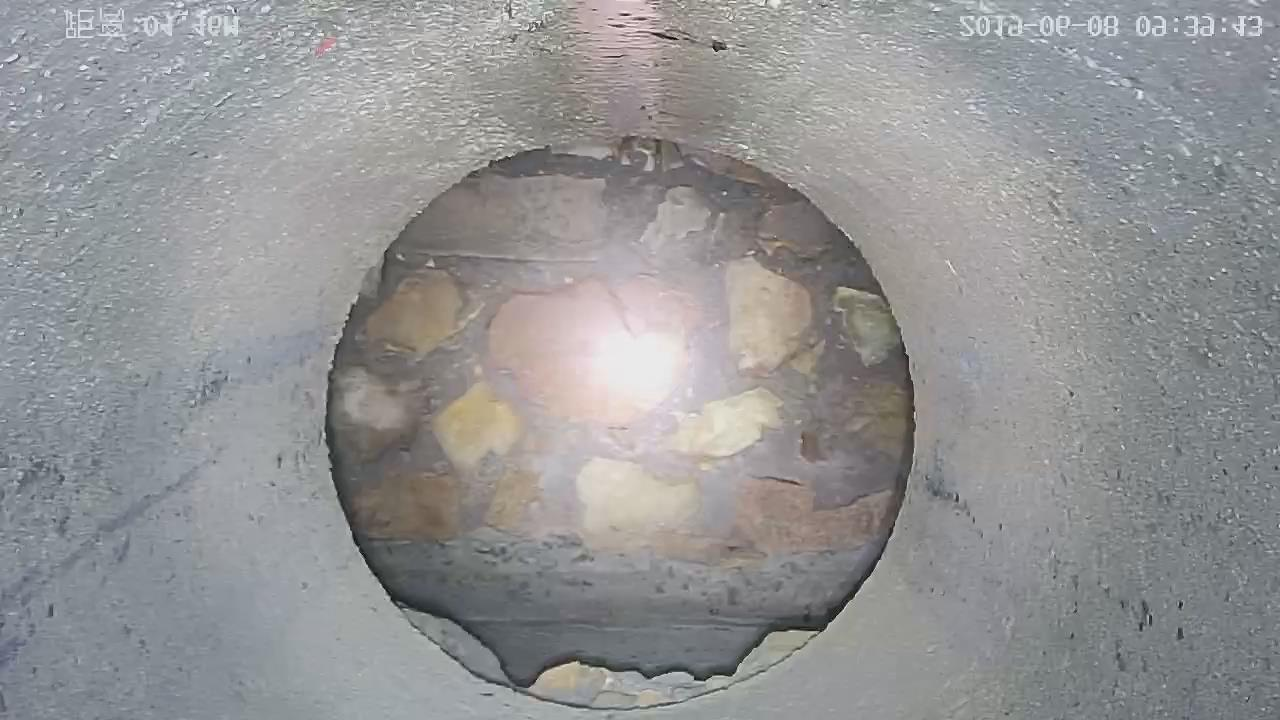CQBG: (325, 144, 912, 720), (327, 138, 914, 710)
